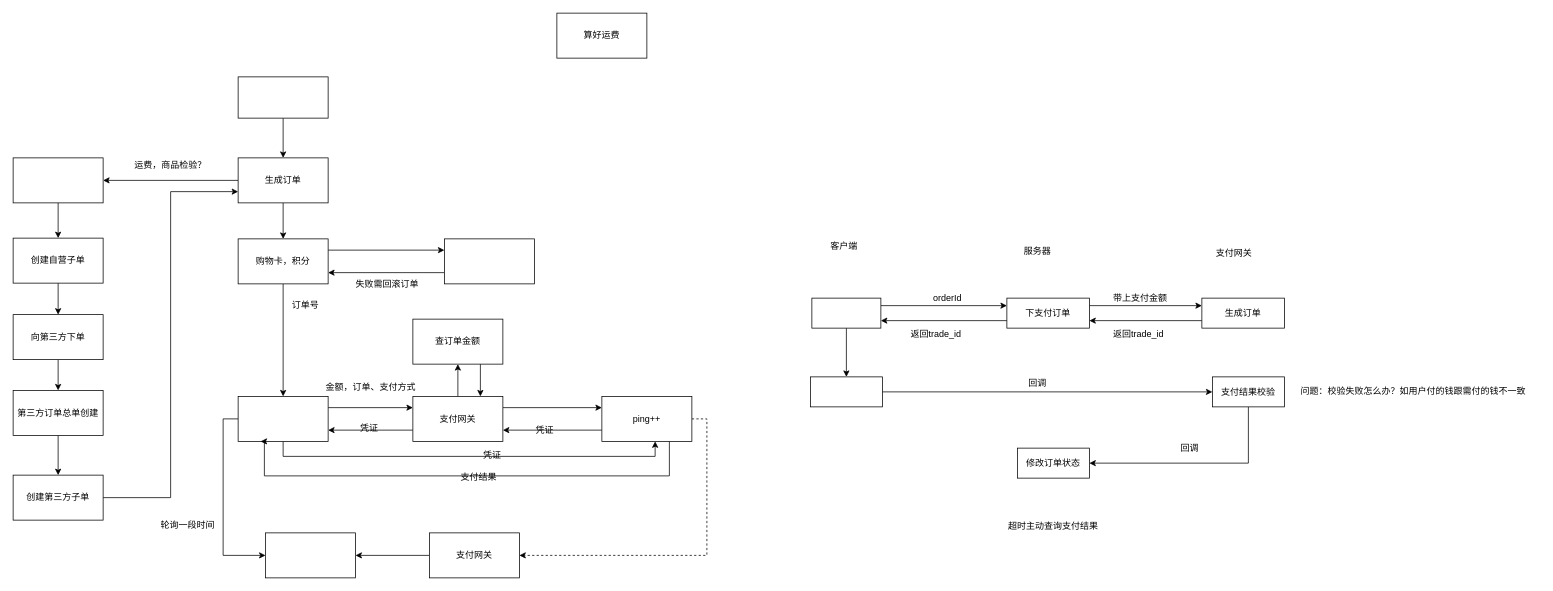
This 1553x591 diagram has some shape labels left out. Here are the shapes that lost their labels. From the top down, the centre of each, then its label:
At [282,97]: "提交订单".
At [57,180]: "创建总单".
At [489,261]: "账号积分模块".
At [846,312]: "发起支付".
At [846,391]: "调用SDK支付".
At [282,418]: "订单号返回客户端".
At [310,555]: "查询服务器".
